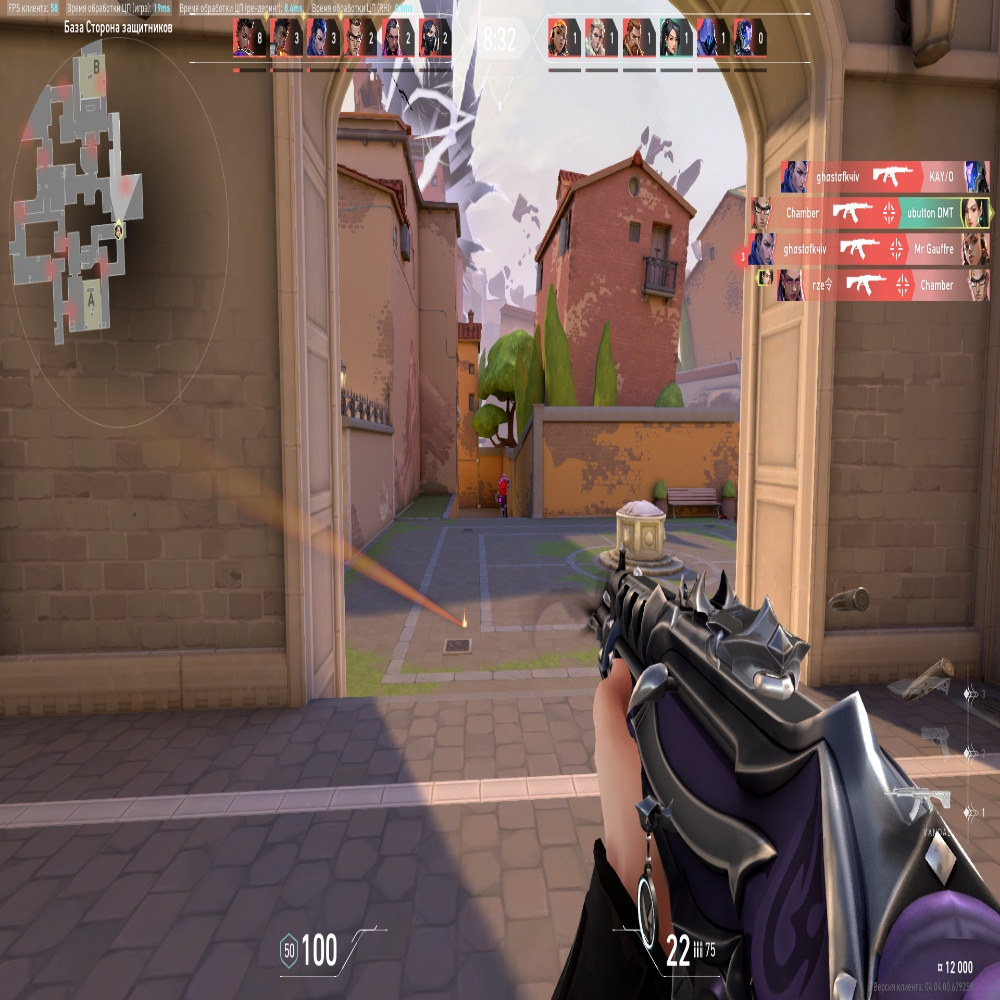body: (499, 479, 508, 497)
head: (501, 473, 506, 478)
